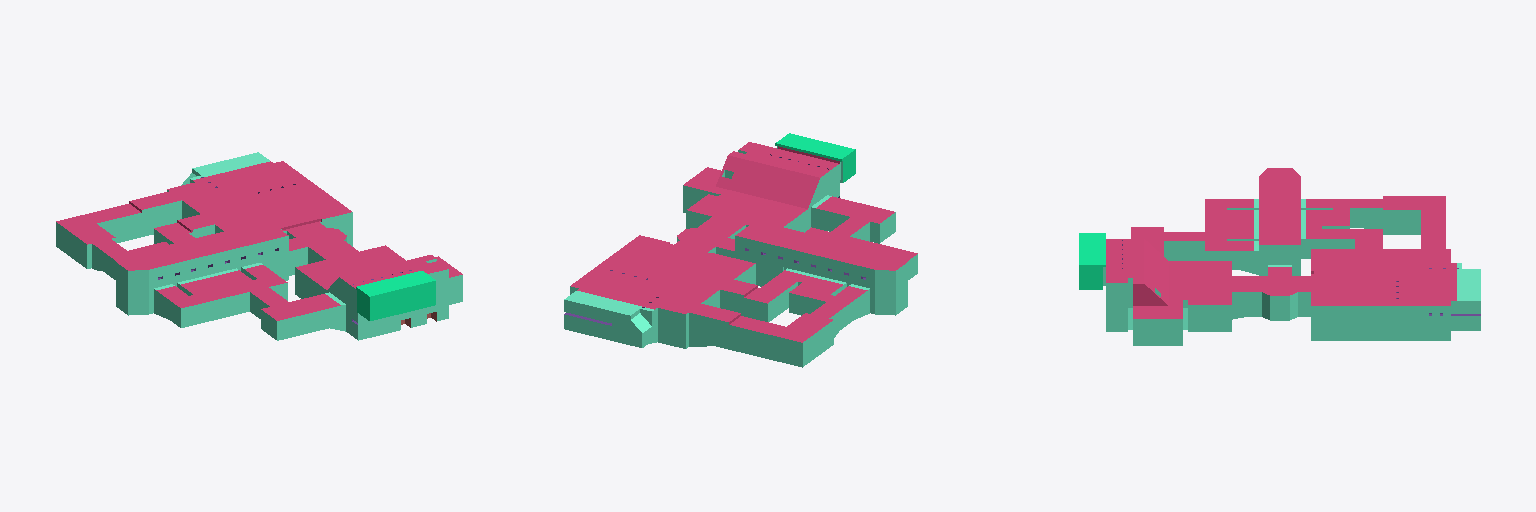
The model's file is map.obj.
3 views of the same model, side by side, from view 1: azimuth 30°, elevation 25°; view 2: azimuth 150°, elevation 25°; view 3: azimuth 270°, elevation 25° (orthographic).
Visible parts, largest first — view 1: bsp_model_0.001; view 2: bsp_model_0.001; view 3: bsp_model_0.001.
Boxes of the visible parts, box(x1,y1,x2,y2) form: bsp_model_0.001: box(56, 152, 462, 340); bsp_model_0.001: box(564, 133, 917, 367); bsp_model_0.001: box(1079, 168, 1480, 345).
Size of the model in its own units: 56.5 by 12 by 73.5.